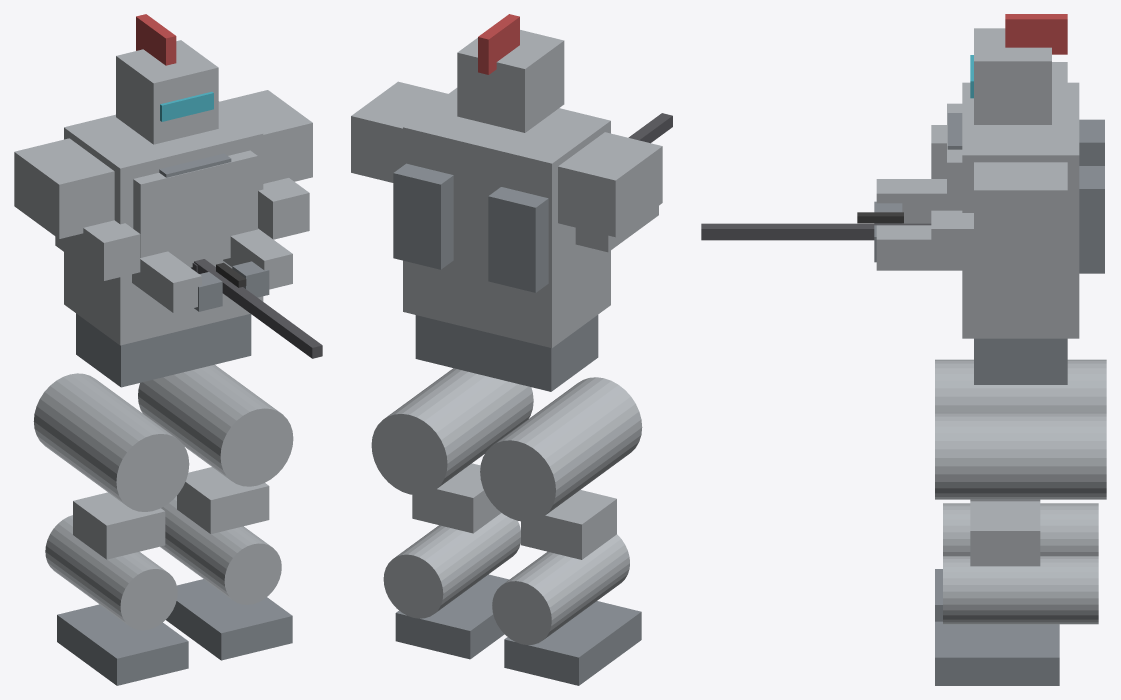
Rendered from mecha_armored_core_gun_idle_body.glb.
The picture shows the model from 3 angles, left to right: view 1: azimuth 30°, elevation 25°; view 2: azimuth 150°, elevation 25°; view 3: azimuth 270°, elevation 25°; orthographic projection. The views are drawn at different scales.
Parts seen in each view (by area): view 1: geometry_0, geometry_9, geometry_10, geometry_1, geometry_2, geometry_8, geometry_13, geometry_5, geometry_15, geometry_14, geometry_16, geometry_3 (+12 smaller); view 2: geometry_0, geometry_9, geometry_10, geometry_2, geometry_13, geometry_14, geometry_8, geometry_5, geometry_15, geometry_26, geometry_27, geometry_3 (+6 smaller); view 3: geometry_0, geometry_10, geometry_14, geometry_3, geometry_16, geometry_9, geometry_5, geometry_12, geometry_13, geometry_8, geometry_18, geometry_23 (+7 smaller).
Part boxes in pixels (<box>): geometry_0: <box>64,101,263,345</box>; geometry_9: <box>33,373,189,511</box>; geometry_10: <box>138,364,293,486</box>; geometry_1: <box>133,150,257,267</box>; geometry_2: <box>14,138,114,238</box>; geometry_8: <box>76,313,251,387</box>; geometry_13: <box>45,515,177,630</box>; geometry_5: <box>116,40,218,144</box>; geometry_15: <box>57,604,188,685</box>; geometry_14: <box>160,496,281,604</box>; geometry_16: <box>166,579,292,660</box>; geometry_3: <box>220,90,312,183</box>; geometry_0: <box>403,88,610,347</box>; geometry_9: <box>480,377,642,521</box>; geometry_10: <box>371,368,533,495</box>; geometry_2: <box>558,132,662,237</box>; geometry_13: <box>492,534,629,644</box>; geometry_14: <box>383,513,520,618</box>; geometry_8: <box>415,315,598,391</box>; geometry_5: <box>457,30,564,132</box>; geometry_15: <box>504,601,641,685</box>; geometry_26: <box>488,187,548,292</box>; geometry_27: <box>393,163,453,269</box>; geometry_3: <box>351,81,447,182</box>; geometry_0: <box>962,82,1079,338</box>; geometry_10: <box>935,412,1106,499</box>; geometry_14: <box>943,556,1098,624</box>; geometry_3: <box>974,162,1067,246</box>; geometry_16: <box>935,621,1059,685</box>; geometry_9: <box>935,359,1106,412</box>; geometry_5: <box>974,28,1051,124</box>; geometry_12: <box>970,501,1040,566</box>; geometry_13: <box>943,503,1098,555</box>; geometry_8: <box>974,338,1067,384</box>; geometry_18: <box>931,210,1032,268</box>; geometry_23: <box>701,223,931,240</box>.
Bounding box in the file's own units: 1.95 × 4.42 × 2.6.
